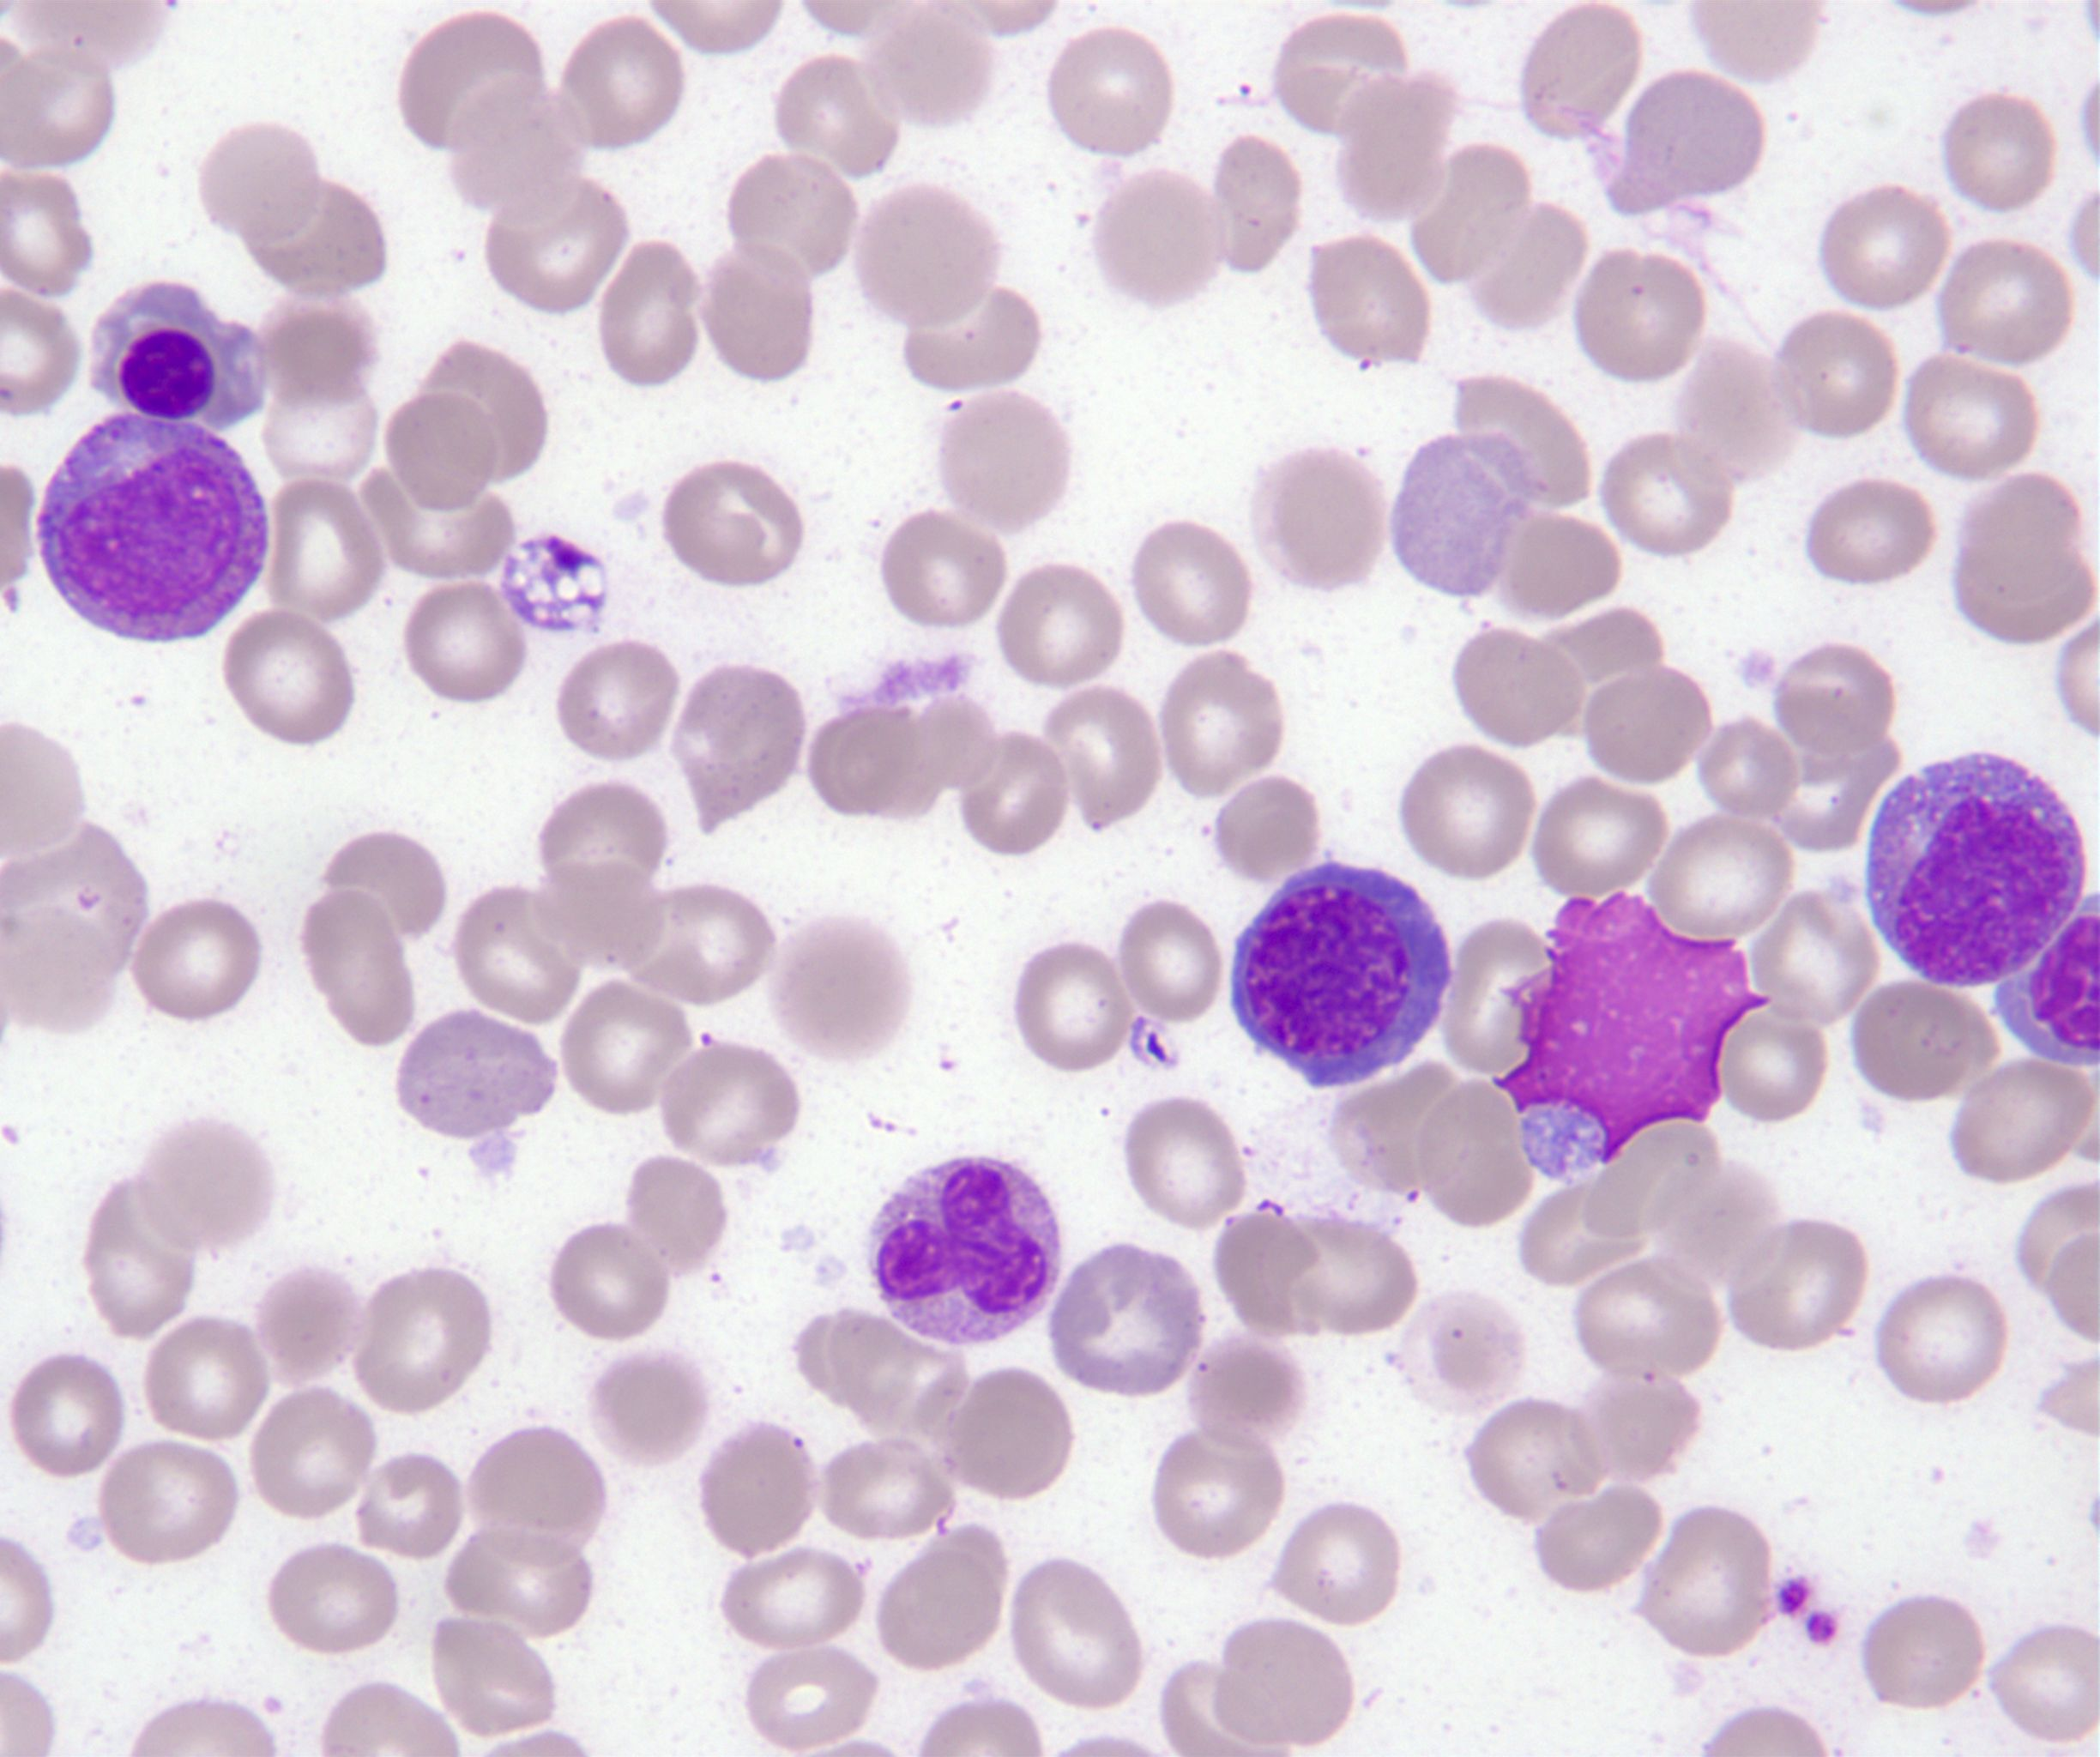23: (1231, 862, 1448, 1087)
24: (92, 283, 267, 434)
3: (40, 414, 263, 642), (1865, 754, 2084, 984)
5: (870, 1157, 1059, 1347)
x: (1488, 893, 1767, 1176)
